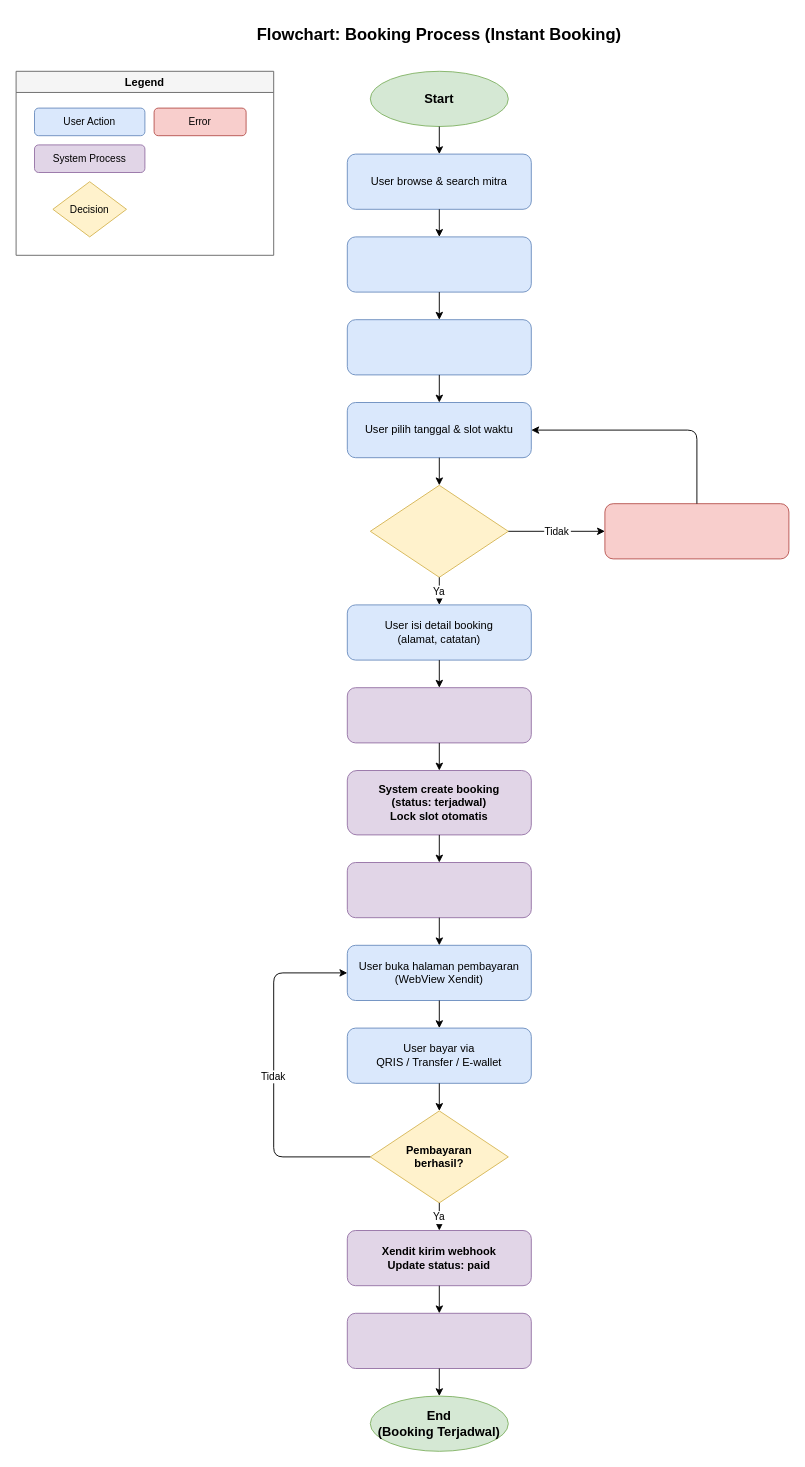
The diagram is 805 pixels wide and 1467 high, and some of its shapes have lost their labels. The shapes that lost their labels are listed below. From the top down, each one's centre as x and y in pixels, then its label:
At [438,264]: "User pilih mitra & lihat profil".
At [438,347]: "User pilih layanan".
At [438,530]: "Slot tersedia?".
At [696,531]: "Tampilkan error: 'Slot tidak tersedia'".
At [438,715]: "System validasi & hitung total (subtotal + platform fee 10%)".
At [438,890]: "System generate Xendit invoice".
At [438,1340]: "System kirim notifikasi ke User & Mitra".
